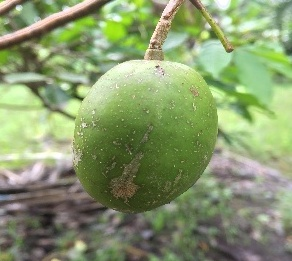Coc: (60, 51, 228, 225)
